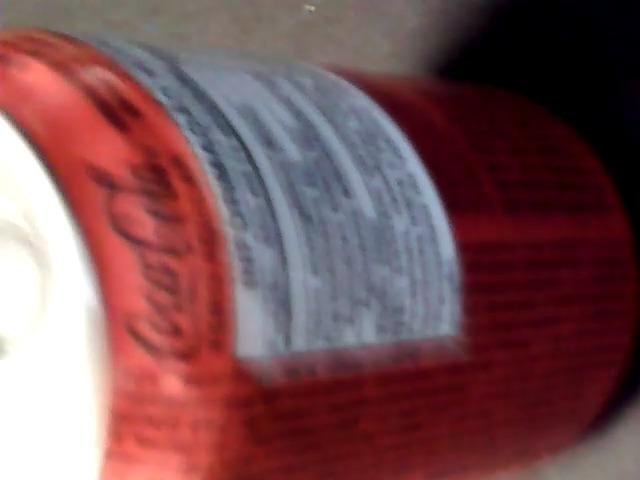coke: (0, 43, 608, 434)
